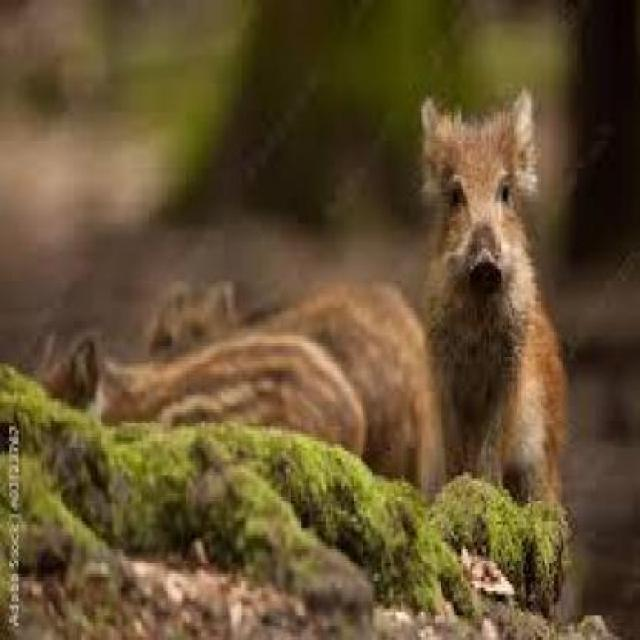wildboar: (146, 266, 442, 479), (424, 81, 568, 516), (29, 321, 371, 499)
